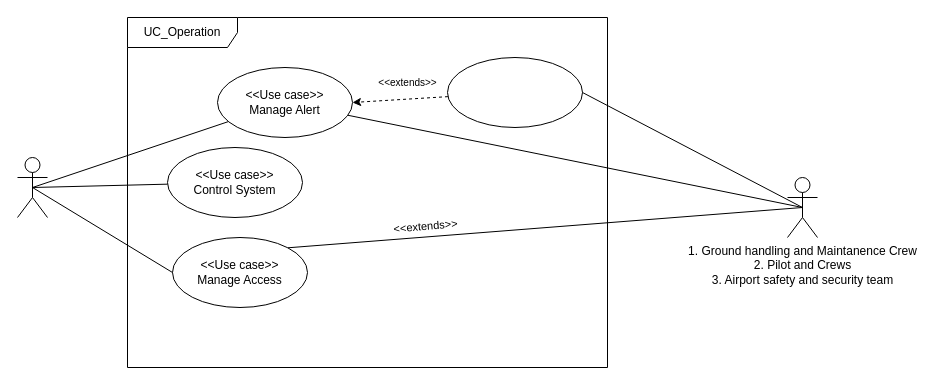
The diagram is 934 pixels wide and 385 high, and some of its shapes have lost their labels. The centre of each missing label's shape, as x and y in pixels:
"<<Use case>> Object detection" goes at (x=514, y=92).
"ATC" goes at (x=32, y=187).
